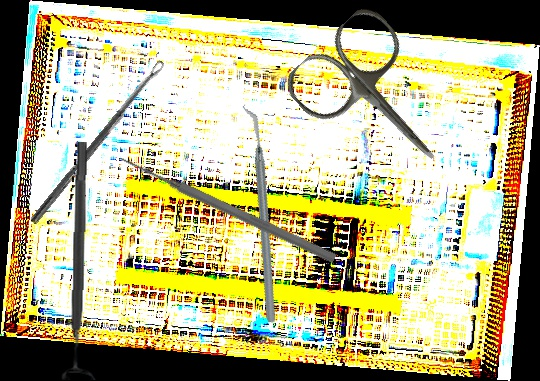Chopper: (178, 103, 341, 326)
Fixation Ring: (58, 141, 102, 381)
Iris Scissors: (279, 1, 476, 200)
Pusher: (117, 151, 339, 266)
Surgical Spoon: (29, 59, 167, 226)
